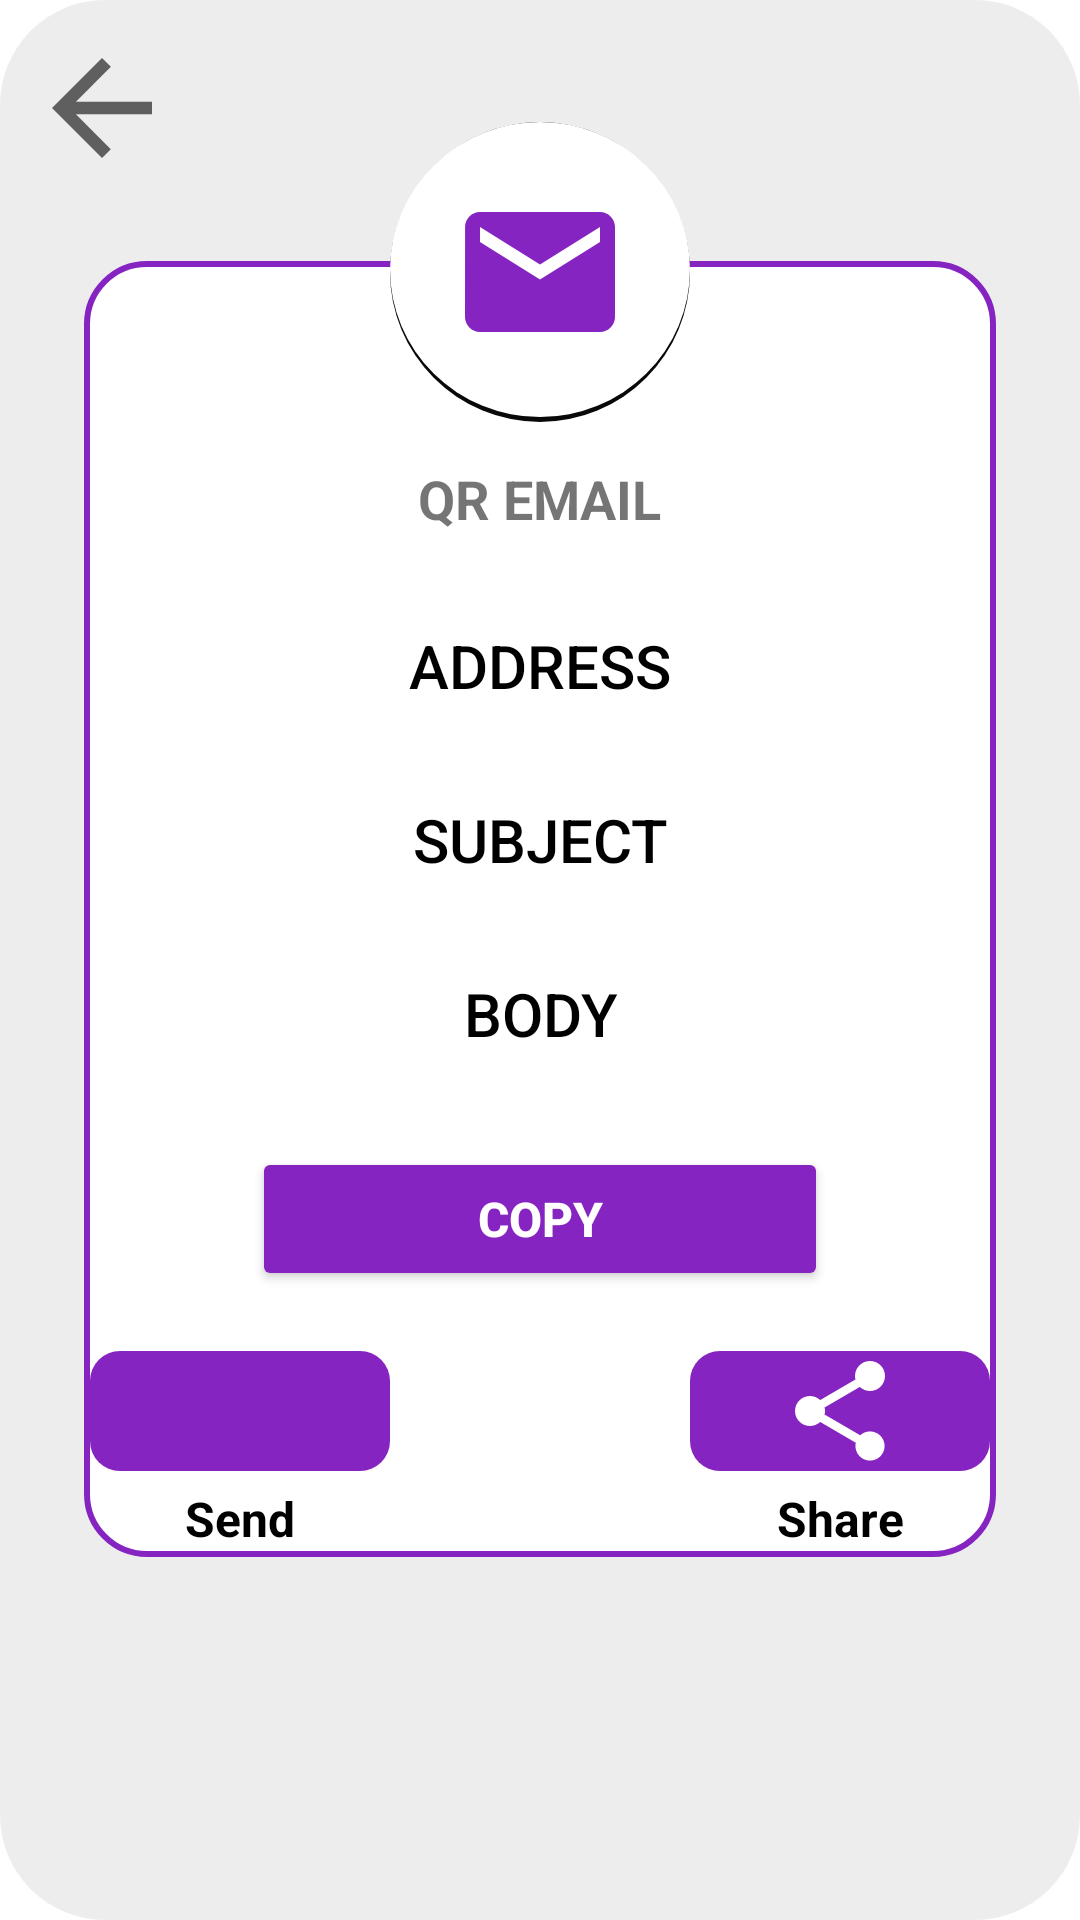

Icons on this 1080px×1920px Android screen, each with its box as (x1, y1, x2, y2):
arrow back: (52, 58, 152, 158)
